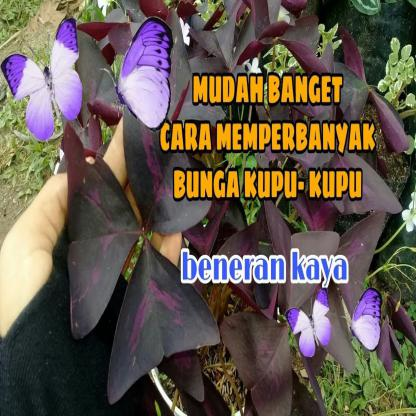Kupu-Kupu: (75, 136, 207, 369), (353, 180, 385, 286)
